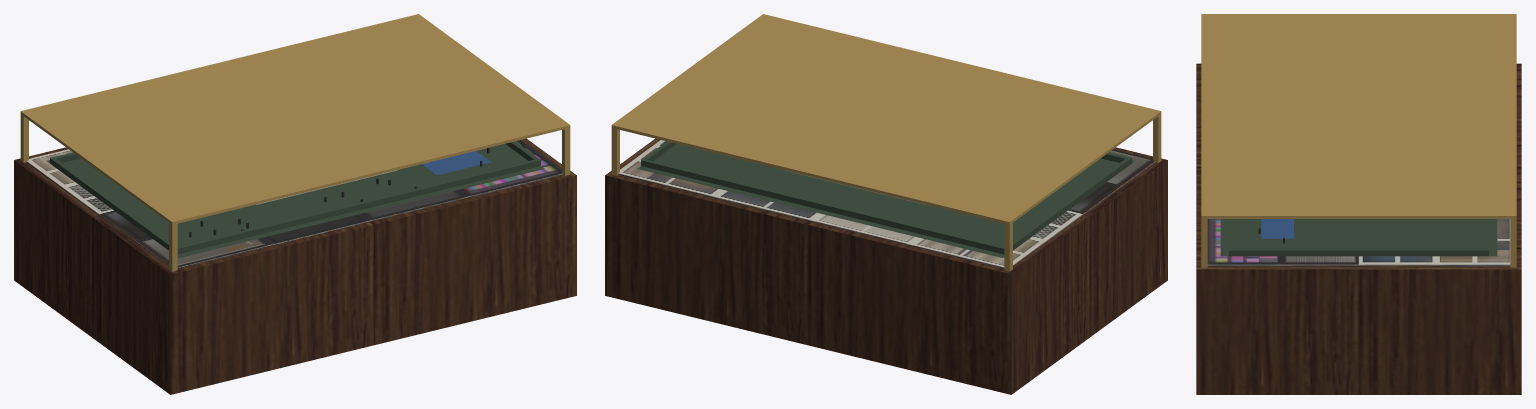
The model's file is town_estate_model 2.gltf.
3 renders of one model, left to right at view 1: azimuth 30°, elevation 25°; view 2: azimuth 150°, elevation 25°; view 3: azimuth 270°, elevation 25°, orthographic. The views are drawn at different scales.
Visible parts, largest first — view 1: TownEstateModel_Plinth, TownEstateModel_Frame, TownEstateModel_Lawn, TownEstateModel_Glass, TownEstateModel_Hedge, TownEstateModel_Pool; view 2: TownEstateModel_Plinth, TownEstateModel_Frame, TownEstateModel_Lawn, TownEstateModel_Glass, TownEstateModel_Hedge; view 3: TownEstateModel_Frame, TownEstateModel_Plinth, TownEstateModel_Lawn, TownEstateModel_Glass, TownEstateModel_Hedge, TownEstateModel_Pool.
Part boxes in pixels (bbox=[...]): TownEstateModel_Plinth: bbox=[14, 138, 576, 394]; TownEstateModel_Frame: bbox=[20, 14, 570, 271]; TownEstateModel_Lawn: bbox=[46, 144, 544, 257]; TownEstateModel_Glass: bbox=[26, 140, 563, 268]; TownEstateModel_Hedge: bbox=[50, 141, 540, 254]; TownEstateModel_Pool: bbox=[422, 151, 490, 175]; TownEstateModel_Plinth: bbox=[605, 138, 1167, 394]; TownEstateModel_Frame: bbox=[611, 14, 1161, 271]; TownEstateModel_Lawn: bbox=[637, 144, 1135, 257]; TownEstateModel_Glass: bbox=[618, 140, 1155, 268]; TownEstateModel_Hedge: bbox=[641, 141, 1131, 254]; TownEstateModel_Frame: bbox=[1201, 14, 1516, 267]; TownEstateModel_Plinth: bbox=[1196, 63, 1521, 394]; TownEstateModel_Lawn: bbox=[1220, 219, 1497, 256]; TownEstateModel_Glass: bbox=[1207, 219, 1510, 266]; TownEstateModel_Hedge: bbox=[1229, 219, 1488, 256]; TownEstateModel_Pool: bbox=[1261, 219, 1293, 238].
Size of what is drawn, in the model's own units: 3 by 1.2 by 2.
1 material, 1 textured.
